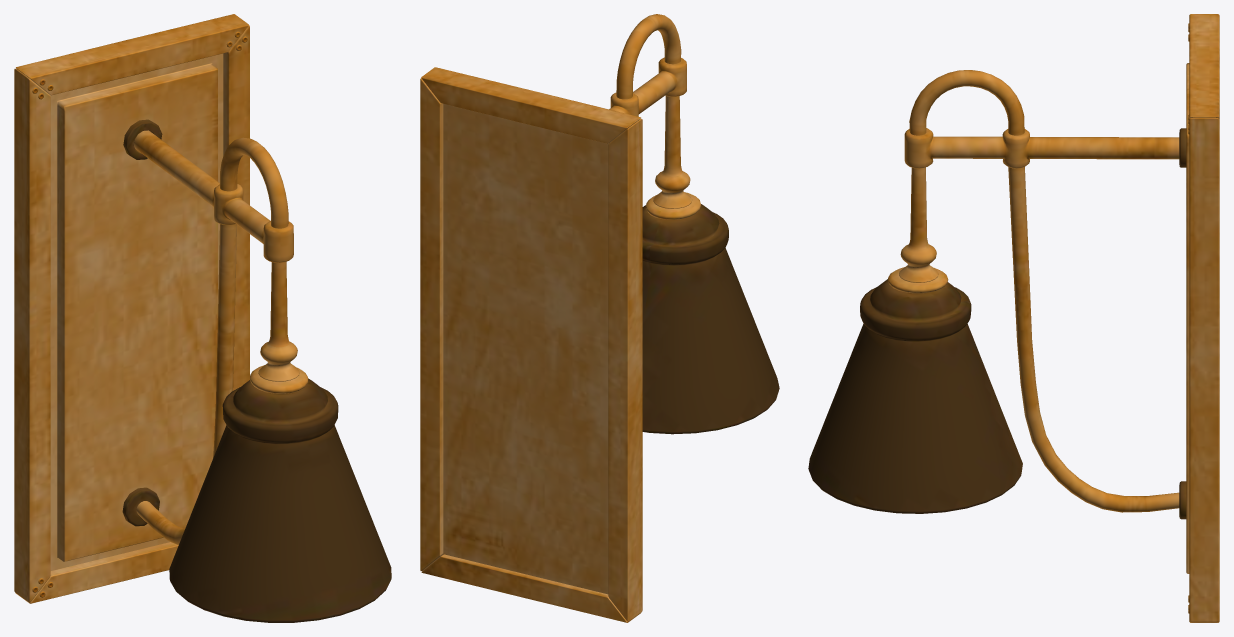
Rendered from nyb_lobby_sconce.glb.
3 views of the same model, side by side, from view 1: azimuth 30°, elevation 25°; view 2: azimuth 150°, elevation 25°; view 3: azimuth 270°, elevation 25° (orthographic). The views are drawn at different scales.
Parts seen in each view (by area): view 1: industrial_wall_sconce; view 2: industrial_wall_sconce; view 3: industrial_wall_sconce.
Part boxes in pixels (<box>): industrial_wall_sconce: <box>14,14,391,622</box>; industrial_wall_sconce: <box>420,14,779,622</box>; industrial_wall_sconce: <box>808,14,1219,622</box>.
Bounding box in the file's own units: 0.1504 × 0.3418 × 0.2516.
2 materials, 2 textured.
